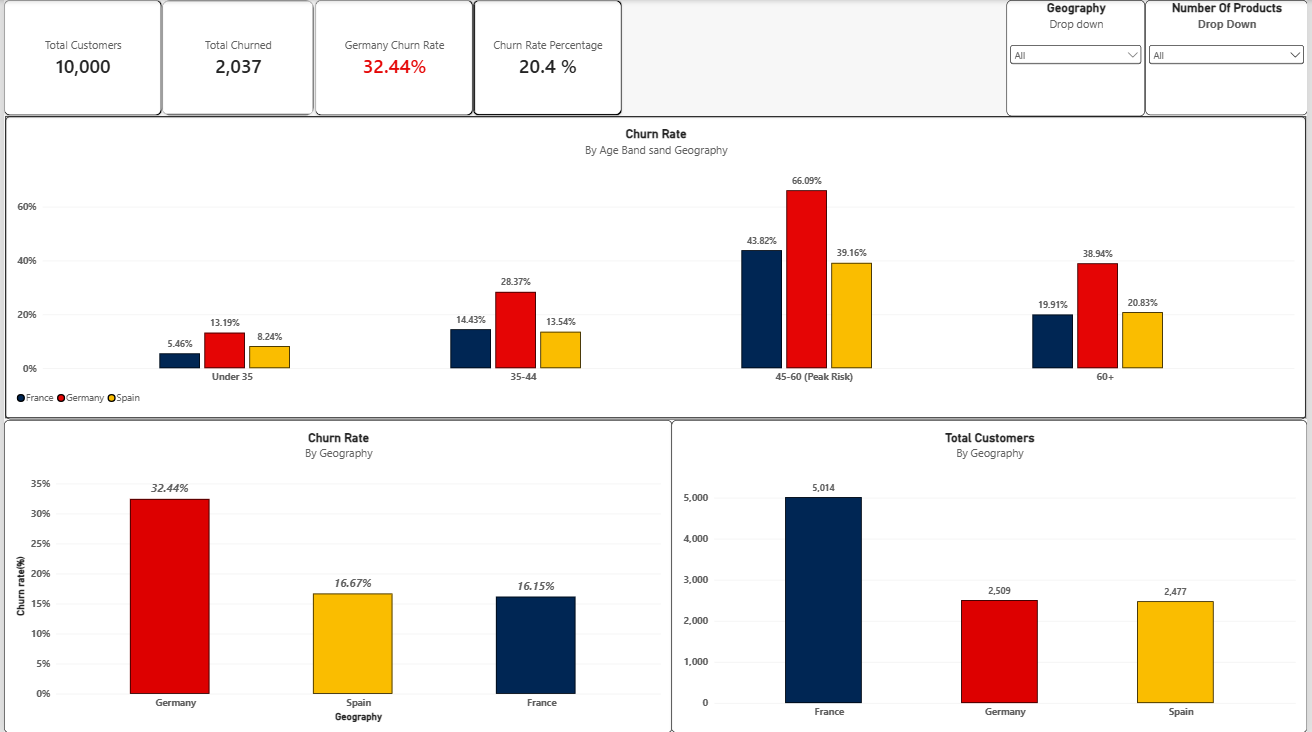

Layout of this report page (visuals, bound fields, positions):
{"tool":"powerbi","page":{"name":"Page 3","canvas":[1920,1080],"ordinal":0},"visuals":[{"type":"clusteredColumnChart","title":"Churn Rate","fields":{"Category":["Customers.geography"],"Y":["Customers.Churn Rate"]},"box":[0,618,984,462],"z":0},{"type":"clusteredColumnChart","title":"Total Customers ","fields":{"Category":["Customers.geography"],"Y":["Customers.Total Customers"]},"box":[982,618,936,462],"z":1000},{"type":"clusteredColumnChart","title":"Churn Rate","fields":{"Category":["Customers.Age_Risk_Band"],"Series":["Customers.geography"],"Y":["Customers.Churn Rate"]},"box":[1.9,171.2,1915.4,446.2],"z":2000},{"type":"cardVisual","fields":{"Data":["Customers.Total Customers"]},"box":[0,0,232.5,170],"z":3000},{"type":"cardVisual","fields":{"Data":["Customers.Total Churned"]},"box":[232,0,225,170],"z":4000},{"type":"cardVisual","fields":{"Data":["Customers.Germany Churn Rate"]},"box":[457.5,0,232.5,170],"z":5000},{"type":"cardVisual","fields":{"Data":["Customers.Churn Rate Percentage"]},"box":[690,0,220,170],"z":6000},{"type":"slicer","title":"Geography","fields":{"Values":["Customers.gender"]},"box":[1476.1,0,204.3,171.2],"z":7000},{"type":"slicer","title":"Number Of Products","fields":{"Values":["Customers.numofproducts"]},"box":[1680.4,0,239.3,169.3],"z":9000}]}

Visuals, with their boxes in screenshot pixels (x1, y1, x2, y2), scaled from the page's 1920x1080 canvas onto the 1312x732 screenshot:
"Churn Rate" clusteredColumnChart: box=[0, 419, 672, 731]
"Total Customers " clusteredColumnChart: box=[671, 419, 1311, 731]
"Churn Rate" clusteredColumnChart: box=[1, 116, 1310, 418]
cardVisual - Customers.Total Customers: box=[0, 0, 159, 115]
cardVisual - Customers.Total Churned: box=[159, 0, 312, 115]
cardVisual - Customers.Germany Churn Rate: box=[313, 0, 472, 115]
cardVisual - Customers.Churn Rate Percentage: box=[472, 0, 622, 115]
"Geography" slicer: box=[1009, 0, 1148, 116]
"Number Of Products" slicer: box=[1148, 0, 1311, 115]
